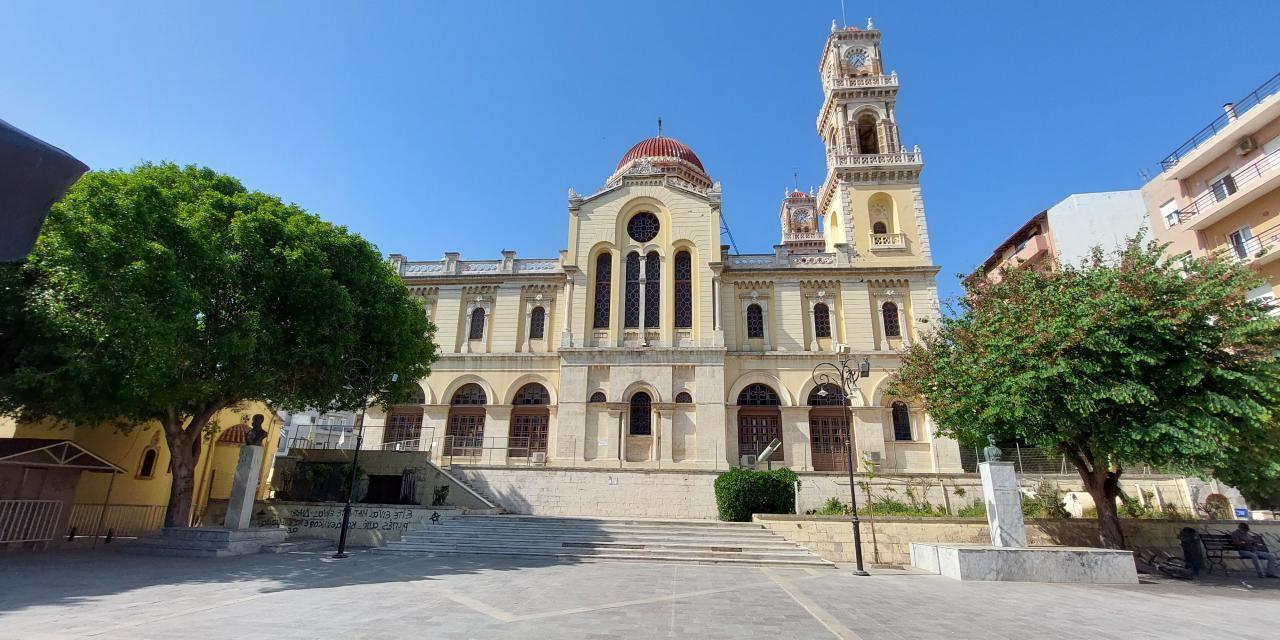Agios Minas: (360, 3, 970, 463)
